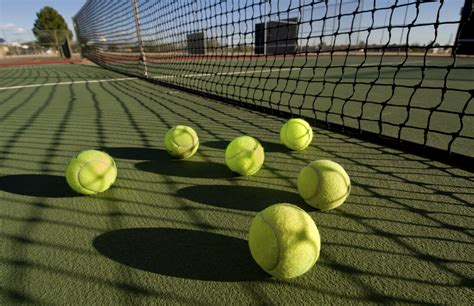tennis_ball: (248, 203, 321, 280), (298, 159, 351, 209), (66, 150, 117, 194), (225, 135, 264, 176), (164, 125, 199, 158), (280, 118, 313, 151)
